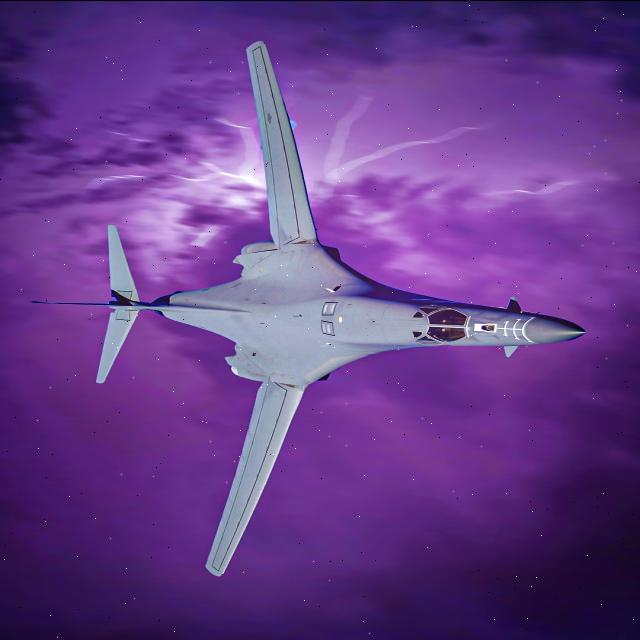B1: (22, 32, 592, 590)
